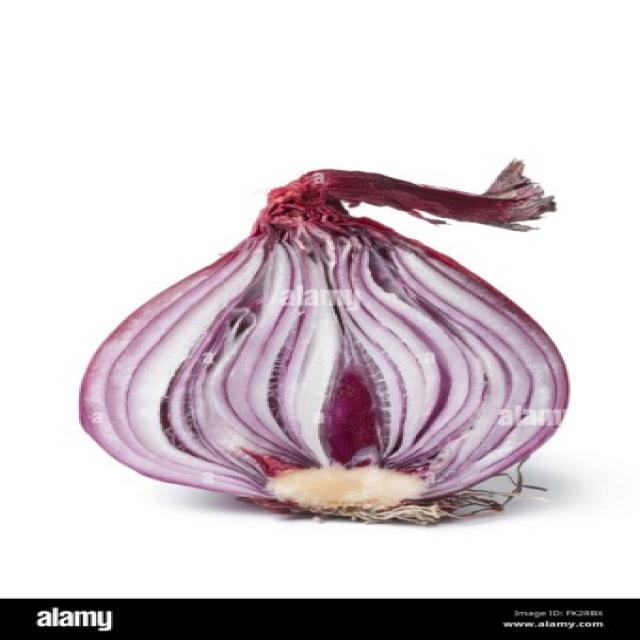onion: (49, 174, 608, 557)
